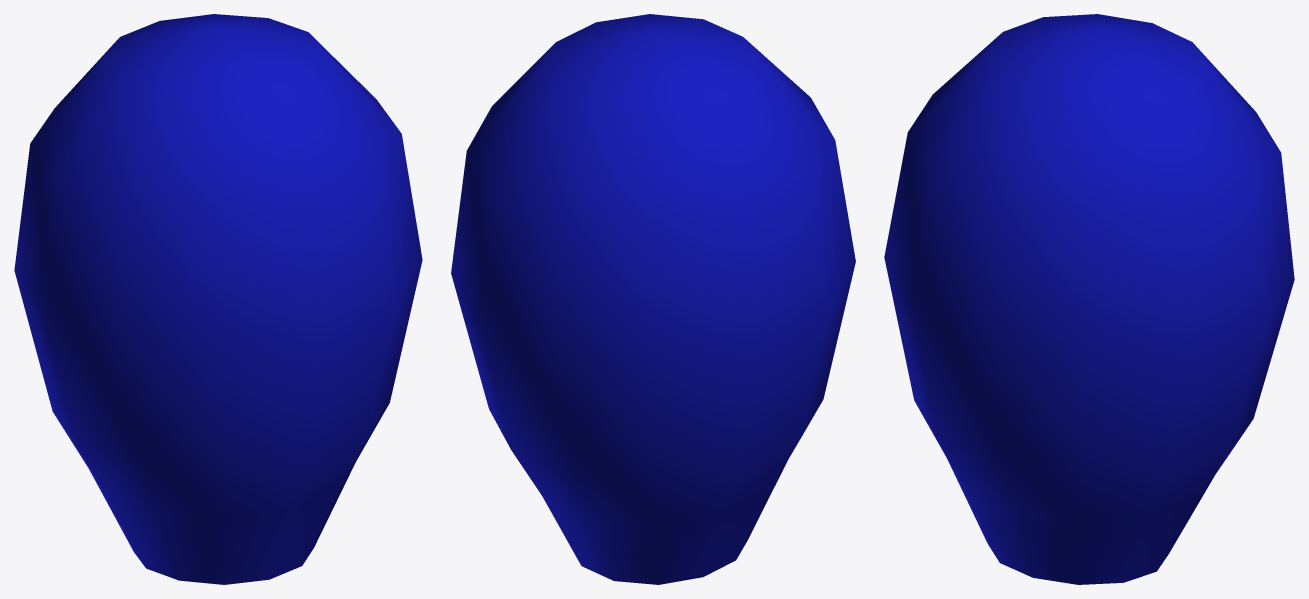
File: Rocket_Jetpack_Explosion.fbx
The picture shows the model from 3 angles, left to right: view 1: azimuth 30°, elevation 25°; view 2: azimuth 150°, elevation 25°; view 3: azimuth 270°, elevation 25°; orthographic projection.
Visible parts, largest first — view 1: Sphere002; view 2: Sphere002; view 3: Sphere002.
Boxes of the visible parts, x1=… form: Sphere002: x1=14, y1=14, x2=422, y2=584; Sphere002: x1=451, y1=14, x2=855, y2=584; Sphere002: x1=884, y1=14, x2=1294, y2=584.
Size of the model in its own units: 26.45 by 37.44 by 26.67.
